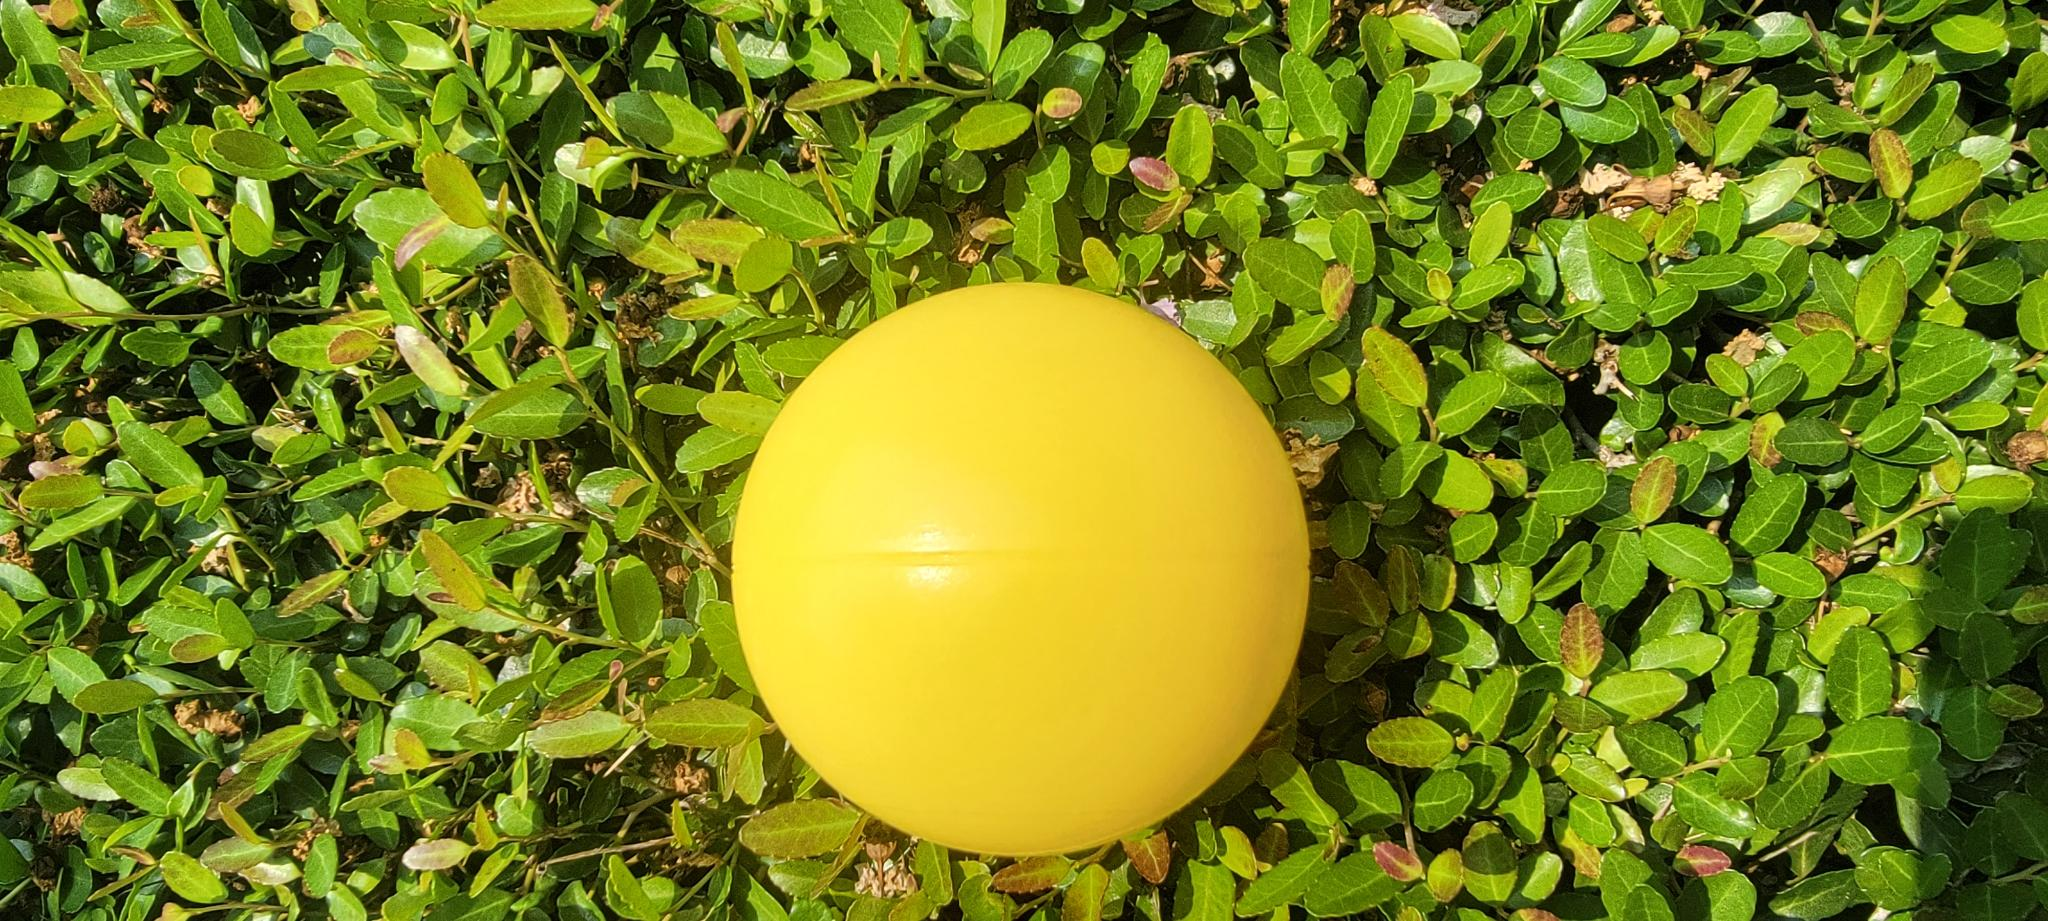Yellow-Ball: (71, 726, 643, 921)
